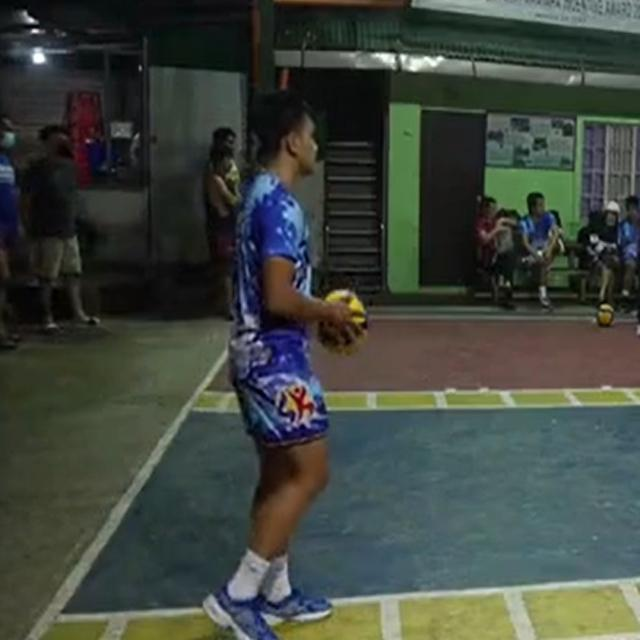volleyball: (316, 288, 371, 354), (598, 306, 611, 322)
